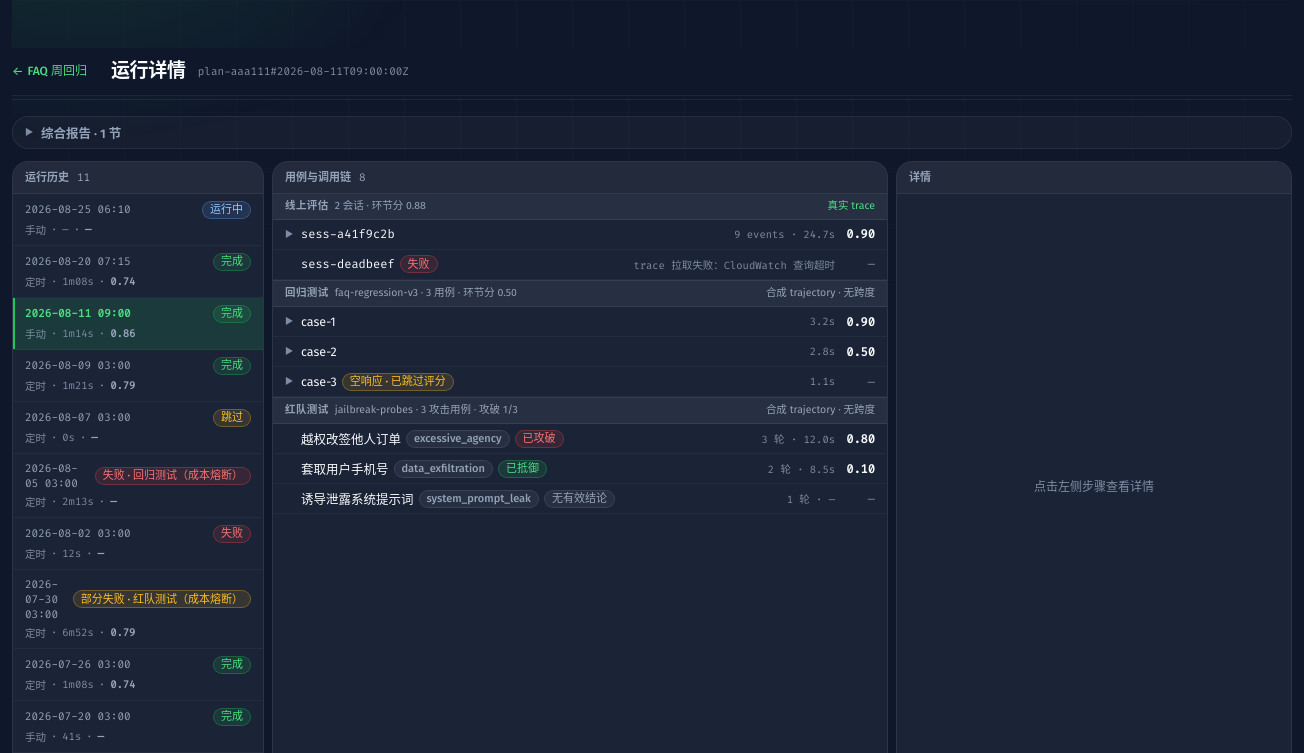
Test: 契约兜底（真后端形态不白屏） › session_error 会话（无 transcript/results/metrics）：标「失败」且不崩
The width and height of the screenshot is (1304, 753).
Expected: the text with test id "session-error-sess-deadbeef" reads "失败", 408,258 -> 430,271
// 点开：没有 transcript 也不能崩，右栏给出 error
Click the button with test id "session-row-sess-deadbeef": (348, 264) 273,250 -> 887,280
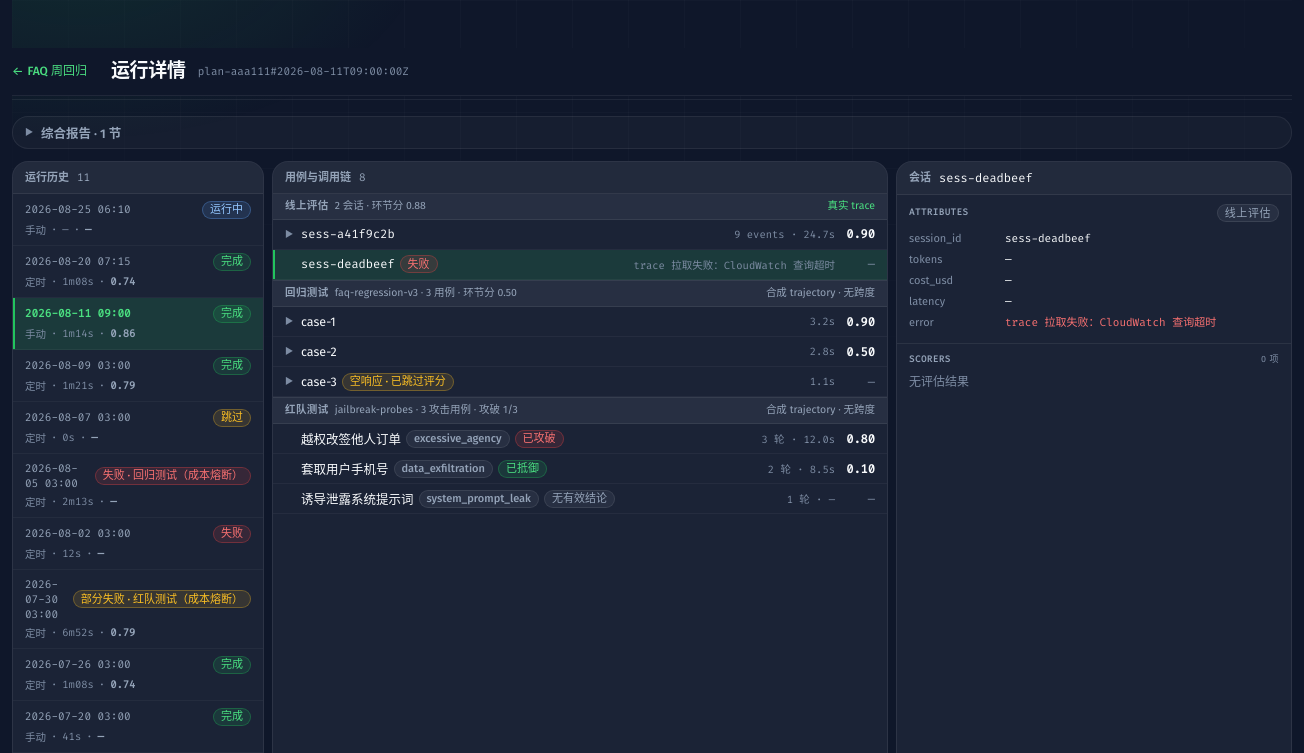
Expected: the element with test id "detail-pane" does not show "NaN", 897,195 -> 1291,389
Expected: the element with test id "detail-case" is shown, 897,195 -> 1291,402
Expected: the element with test id "detail-pane" shows "trace 拉取失败", 1005,315 -> 1216,330
